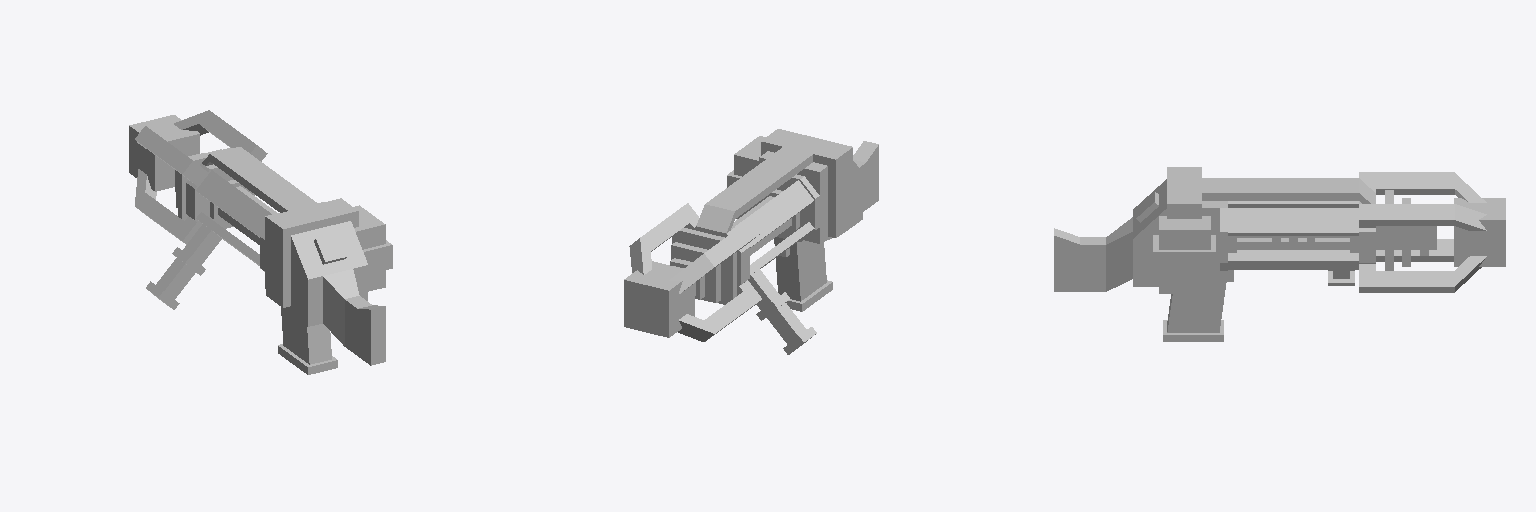
Rendered from impulse_cannon.obj.
3 views of the same model, side by side, from view 1: azimuth 30°, elevation 25°; view 2: azimuth 150°, elevation 25°; view 3: azimuth 270°, elevation 25° (orthographic).
Visible parts, largest first — view 1: Back_cube.027, Inlay_cube.009, Focus_Supports_cube.029, Middle_Supports_cube.003, Focus_cube.010, Handle_Front_Cube.001, Stabilizer_cube.008, Front_Support_cube.005, Impetus_Gem_Cube.002, Antenna_cube.013; view 2: Inlay_cube.009, Back_cube.027, Focus_Supports_cube.029, Focus_cube.010, Antenna_cube.013, Middle_Supports_cube.003, Handle_Front_Cube.001, Back_Support_cube.036, Stabilizer_cube.008, Front_Support_cube.005; view 3: Back_cube.027, Focus_Supports_cube.029, Middle_Supports_cube.003, Inlay_cube.009, Stabilizer_cube.008, Focus_cube.010, Antenna_cube.013, Beam_Augment_Continuous_cube.023, Front_Support_cube.005, Back_Support_cube.036.
Part boxes in pixels (bbox=[...]): Back_cube.027: bbox=[265, 202, 385, 374]; Inlay_cube.009: bbox=[202, 147, 358, 307]; Focus_Supports_cube.029: bbox=[135, 110, 267, 244]; Middle_Supports_cube.003: bbox=[196, 170, 271, 265]; Focus_cube.010: bbox=[129, 115, 199, 191]; Handle_Front_Cube.001: bbox=[146, 224, 221, 309]; Stabilizer_cube.008: bbox=[354, 205, 392, 291]; Front_Support_cube.005: bbox=[186, 163, 254, 228]; Impetus_Gem_Cube.002: bbox=[314, 233, 347, 264]; Antenna_cube.013: bbox=[175, 148, 231, 220]; Inlay_cube.009: bbox=[696, 129, 852, 237]; Back_cube.027: bbox=[759, 141, 878, 311]; Focus_Supports_cube.029: bbox=[629, 203, 761, 341]; Focus_cube.010: bbox=[624, 261, 694, 337]; Antenna_cube.013: bbox=[670, 228, 736, 304]; Middle_Supports_cube.003: bbox=[735, 180, 814, 275]; Handle_Front_Cube.001: bbox=[748, 269, 816, 354]; Back_Support_cube.036: bbox=[755, 174, 819, 241]; Stabilizer_cube.008: bbox=[727, 136, 765, 218]; Front_Support_cube.005: bbox=[692, 226, 749, 287]; Back_cube.027: bbox=[1054, 179, 1233, 341]; Focus_Supports_cube.029: bbox=[1359, 172, 1486, 292]; Middle_Supports_cube.003: bbox=[1228, 201, 1358, 269]; Inlay_cube.009: bbox=[1167, 167, 1375, 218]; Stabilizer_cube.008: bbox=[1153, 216, 1215, 293]; Focus_cube.010: bbox=[1454, 198, 1505, 266]; Antenna_cube.013: bbox=[1376, 190, 1436, 270]; Beam_Augment_Continuous_cube.023: bbox=[1237, 236, 1349, 249]; Front_Support_cube.005: bbox=[1350, 201, 1375, 263]; Back_Support_cube.036: bbox=[1220, 201, 1236, 270].
Size of the model in its own units: 0.6088 by 0.5938 by 1.62.